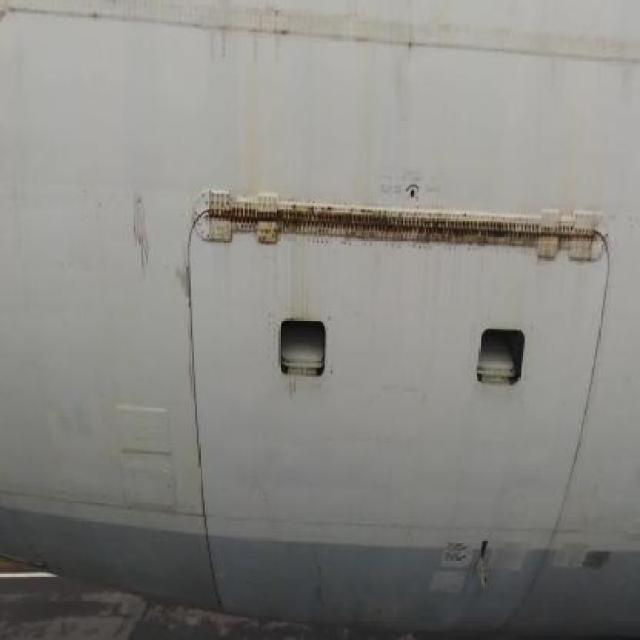Rust: (192, 177, 612, 281), (125, 179, 158, 281)
Scartch: (171, 235, 189, 363)
